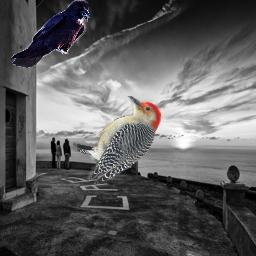Crow: (11, 0, 90, 68)
Woodpecker: (73, 96, 162, 184)
